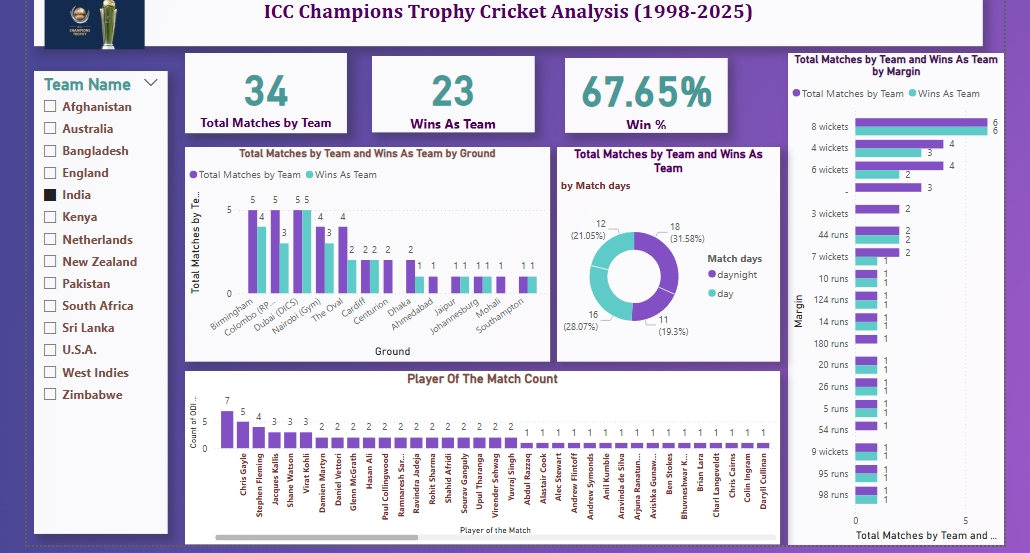

What the dashboard file says about the page in this screenshot:
{"tool":"powerbi","page":{"name":"Team Performance Dashboard","canvas":[1280,720],"ordinal":0},"visuals":[{"type":"textbox","box":[9.2,0,1242.3,66.8],"z":0},{"type":"image","box":[0,0,176.7,75.9],"z":1000},{"type":"slicer","fields":{"Values":["Players.Team"]},"box":[9.6,99.1,174.8,605.6],"z":2000},{"type":"card","fields":{"Values":["Matches.Total Matches by Team"]},"box":[206.5,75.7,212,104.6],"z":3000},{"type":"card","fields":{"Values":["Matches.Wins As Team"]},"box":[451.4,79.8,213.3,100.5],"z":4000},{"type":"card","fields":{"Values":["Matches.Win %"]},"box":[704.7,82.6,213.3,97.7],"z":5000},{"type":"clusteredColumnChart","fields":{"Category":["Matches.Ground"],"Y":["Matches.Total Matches by Team","Matches.Wins As Team"]},"box":[206.5,199.6,477.6,280.8],"z":6000},{"type":"clusteredBarChart","fields":{"Category":["Matches.Margin"],"Y":["Matches.Total Matches by Team","Matches.Wins As Team"]},"box":[996.5,75.7,283.5,644.1],"z":7000},{"type":"donutChart","fields":{"Category":["Matches.Match days"],"Y":["Matches.Total Matches by Team","Matches.Wins As Team"]},"box":[693.7,199.6,291.8,280.8],"z":8000},{"type":"columnChart","title":"Player Of The Match Count","fields":{"Category":["Matches.Player of the Match"],"Y":["Matches.ODI Int Match"]},"box":[206.5,492.7,779,227.1],"z":9000}]}

Visuals, with their boxes in screenshot pixels (x1, y1, x2, y2):
textbox: x1=34, y1=0, x2=974, y2=45
image: x1=27, y1=0, x2=161, y2=52
slicer - Players.Team: x1=34, y1=70, x2=166, y2=528
card - Matches.Total Matches by Team: x1=183, y1=52, x2=344, y2=131
card - Matches.Wins As Team: x1=368, y1=55, x2=530, y2=131
card - Matches.Win %: x1=560, y1=57, x2=722, y2=131
clusteredColumnChart - Matches.Ground x Matches.Total Matches by Team: x1=183, y1=146, x2=545, y2=358
clusteredBarChart - Matches.Margin x Matches.Total Matches by Team: x1=781, y1=52, x2=996, y2=539
donutChart - Matches.Match days x Matches.Total Matches by Team: x1=552, y1=146, x2=773, y2=358
"Player Of The Match Count" columnChart: x1=183, y1=368, x2=773, y2=539
